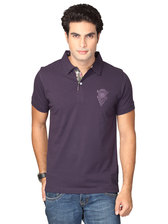clothoes: (29, 49, 140, 196)
